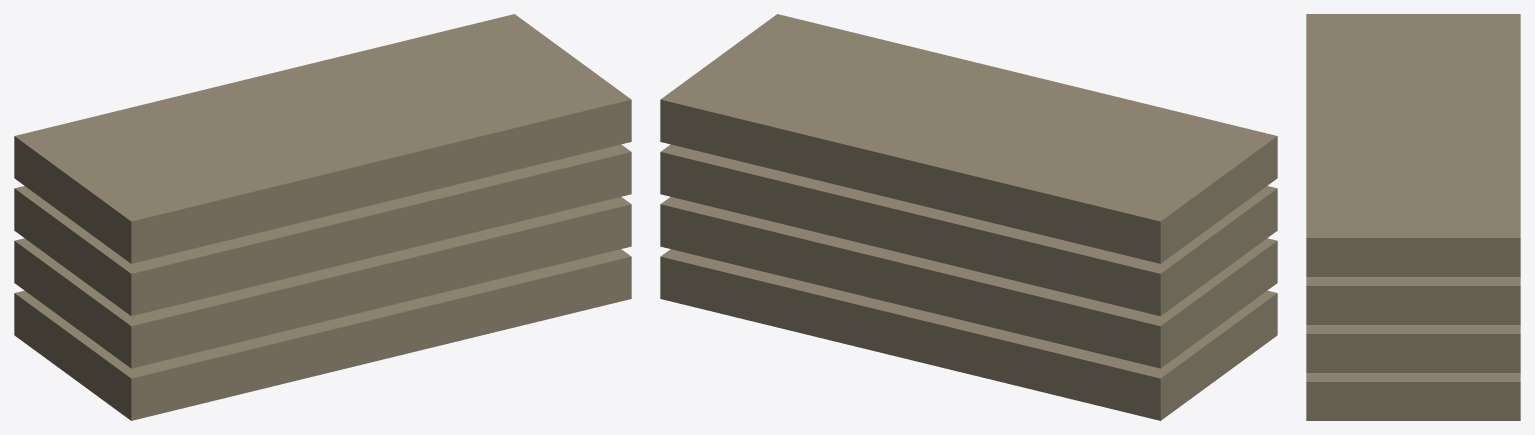
File: lumber-stack.glb
3 views of the same model, side by side, from view 1: azimuth 30°, elevation 25°; view 2: azimuth 150°, elevation 25°; view 3: azimuth 270°, elevation 25° (orthographic). The views are drawn at different scales.
Visible parts, largest first — view 1: lumber-stack_978d76; view 2: lumber-stack_978d76; view 3: lumber-stack_978d76.
Part boxes in pixels (bbox=[...]): lumber-stack_978d76: bbox=[14, 14, 631, 420]; lumber-stack_978d76: bbox=[660, 14, 1277, 420]; lumber-stack_978d76: bbox=[1306, 14, 1520, 420].
Size of the model in its own units: 2.1 by 0.8 by 0.85.
